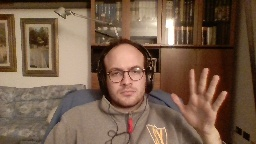Mano_aperta: (169, 64, 228, 131)
